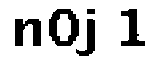0: (46, 4, 79, 48)
1: (114, 9, 151, 52)
j: (79, 4, 101, 60)
n: (14, 17, 43, 51)
